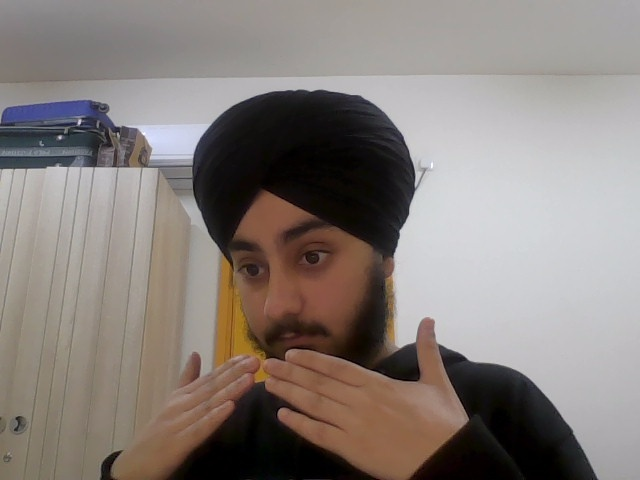Thanks: (116, 314, 471, 480)
